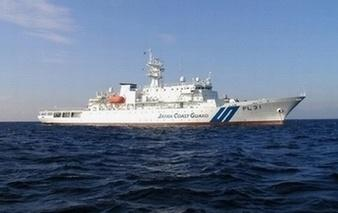warship: (39, 53, 306, 129)
